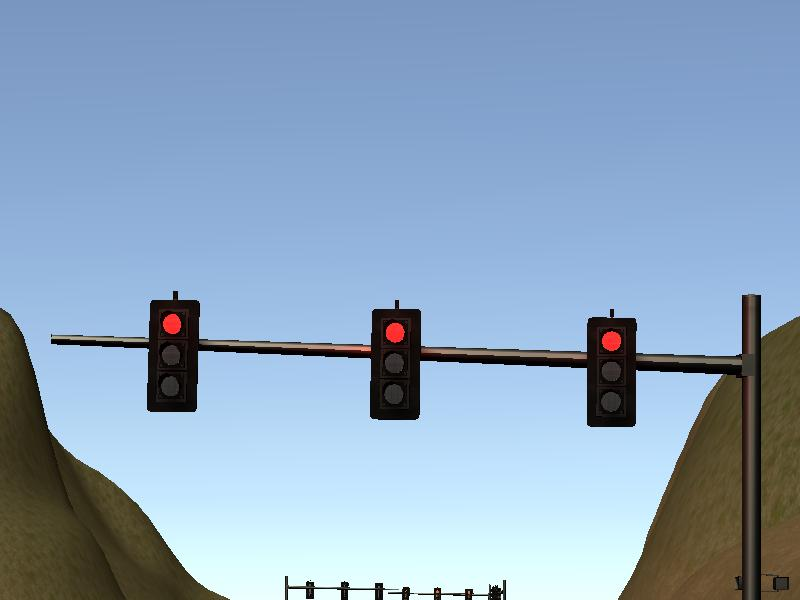red: (145, 296, 199, 413), (368, 305, 422, 422), (584, 314, 638, 431)
